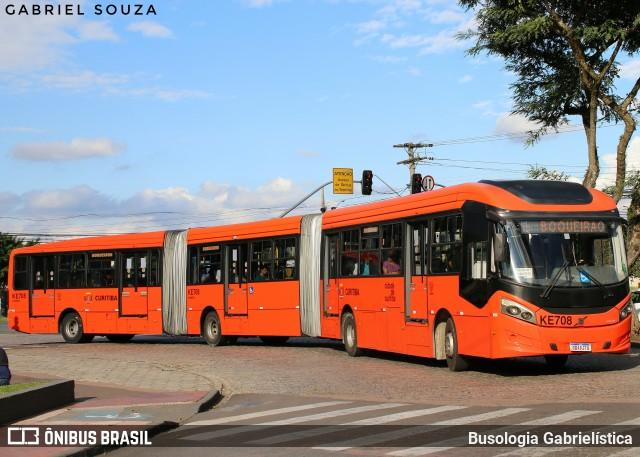BOQUEIRAO: (536, 219, 608, 234)
